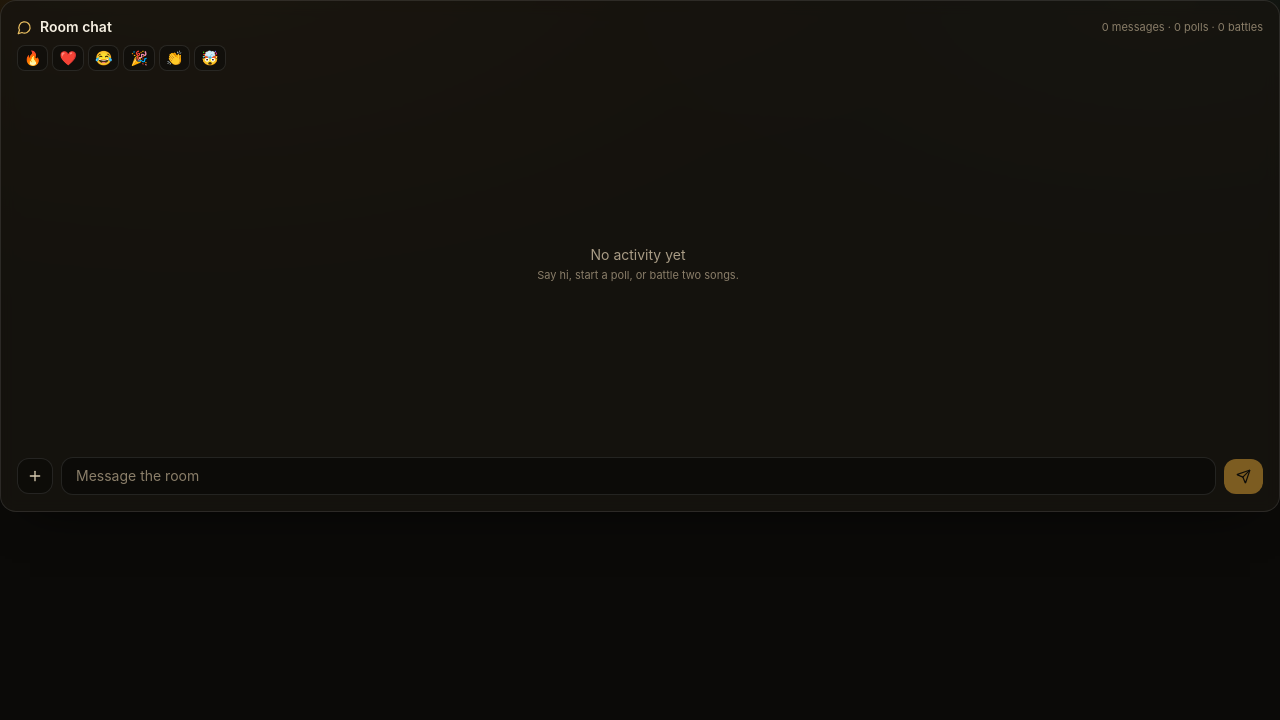
ChatPanel › opens poll and battle options from the composer
The width and height of the screenshot is (1280, 720).
Step 1. Click the button named "Start a poll or battle" → (35, 476), box [17,458,53,494]
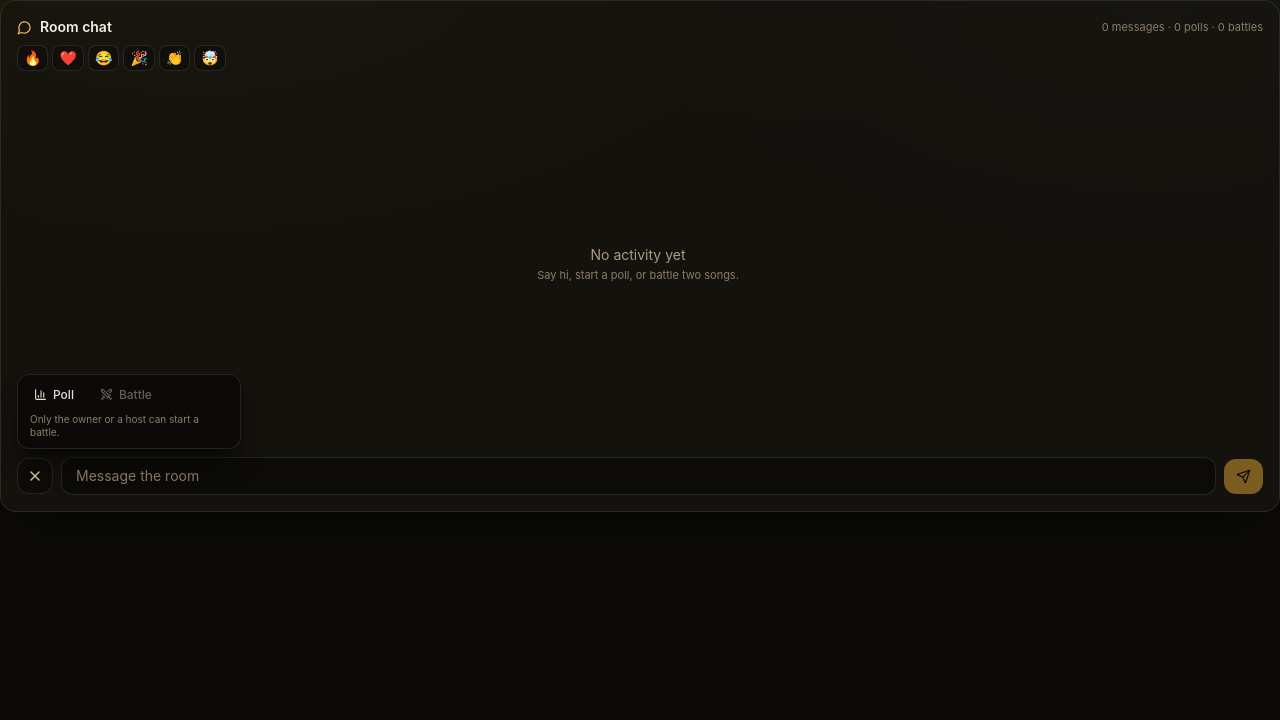
Expected: the button "Poll" is enabled
Expected: the button "Battle" is disabled, [90,380,162,408]
Expected: the text "Only the owner or a host can start a battle." is shown, [30,412,199,438]
Step 2. Click the button "Poll" → (54, 394), box [24,380,84,408]
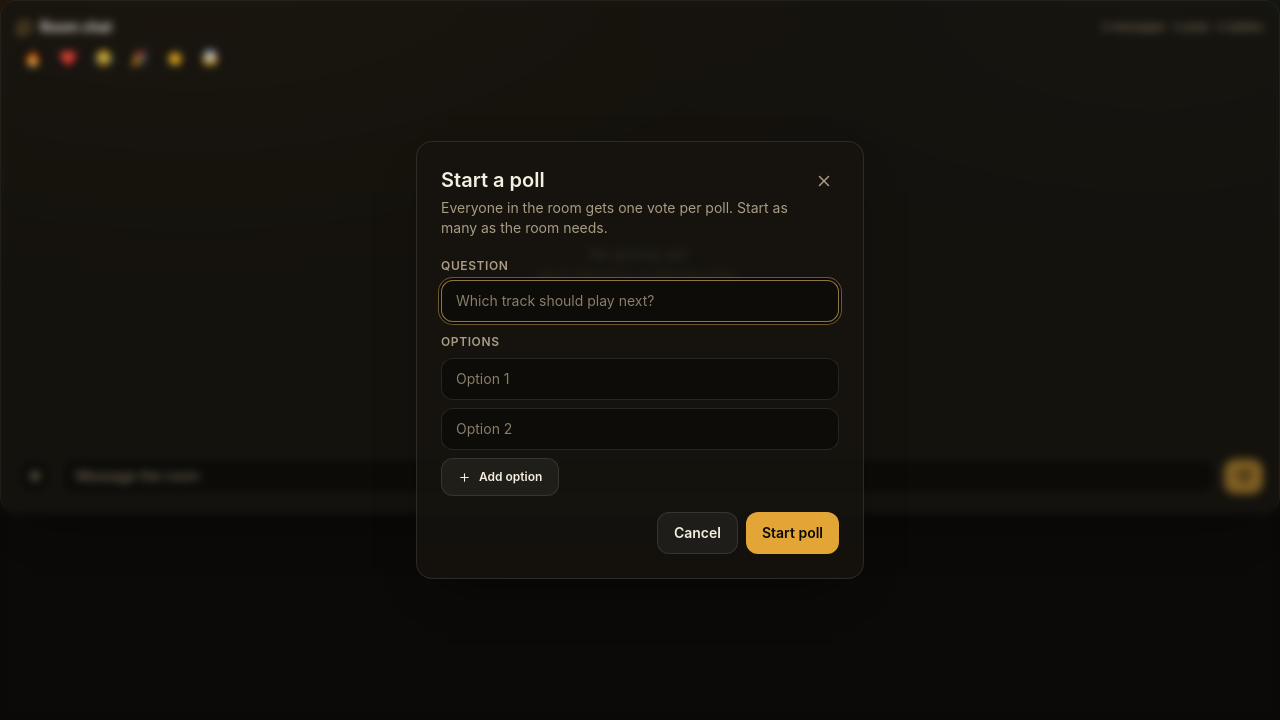
Expected: the heading "Start a poll" is shown, [441,168,545,192]
